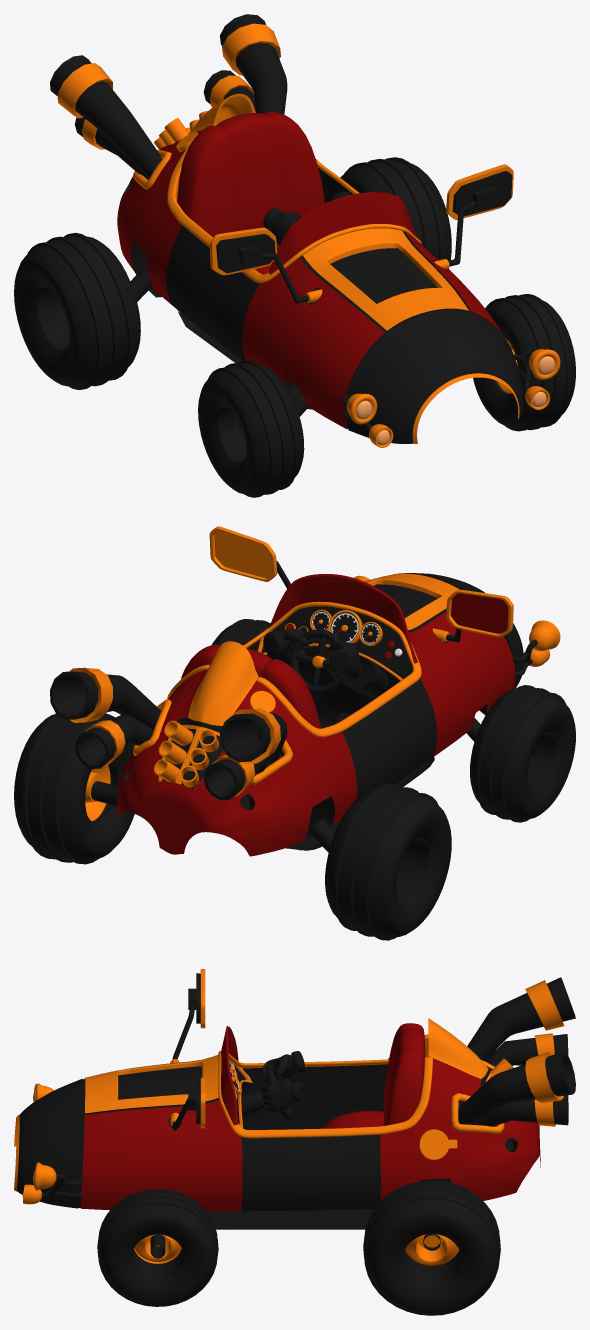
Rendered from Kart_FP.FBX.
3 renders of one model, top to bottom at view 1: azimuth 30°, elevation 25°; view 2: azimuth 150°, elevation 25°; view 3: azimuth 270°, elevation 25°, orthographic. The views are drawn at different scales.
Parts seen in each view (by area): view 1: Body, Tire_BR, Object010, Tire_FR, Tire_FL, Tire_BL, Windshield, Hand; view 2: Body, Tire_BR, Tire_BL, Tire_FR, Mirror, Windshield, Object010, Hand, Handle, Tire_FL, Tube002; view 3: Body, Tire_BL, Tire_FL, Object010, Hand, Windshield.
Boxes of the visible parts, box(x1,y1,x2,y2) form: Body: box(50, 14, 560, 447); Tire_BR: box(14, 233, 140, 389); Object010: box(177, 111, 324, 274); Tire_FR: box(198, 360, 304, 497); Tire_FL: box(473, 294, 575, 431); Tire_BL: box(340, 157, 451, 268); Windshield: box(269, 192, 417, 274); Hand: box(263, 191, 350, 245); Body: box(50, 526, 560, 856); Tire_BR: box(325, 783, 451, 940); Tire_BL: box(14, 713, 134, 864); Tire_FR: box(470, 685, 575, 822); Mirror: box(214, 530, 508, 633); Windshield: box(269, 574, 417, 663); Object010: box(181, 644, 321, 728); Hand: box(263, 629, 360, 674); Handle: box(290, 629, 346, 694); Tire_FL: box(212, 619, 270, 645); Tube002: box(328, 610, 362, 643); Body: box(14, 969, 575, 1258); Tire_BL: box(363, 1180, 500, 1315); Tire_FL: box(97, 1189, 218, 1306); Object010: box(322, 1023, 425, 1210); Hand: box(261, 1051, 305, 1112); Windshield: box(221, 1026, 238, 1125).
Bounding box in the file's own units: 191 × 122 × 273.
